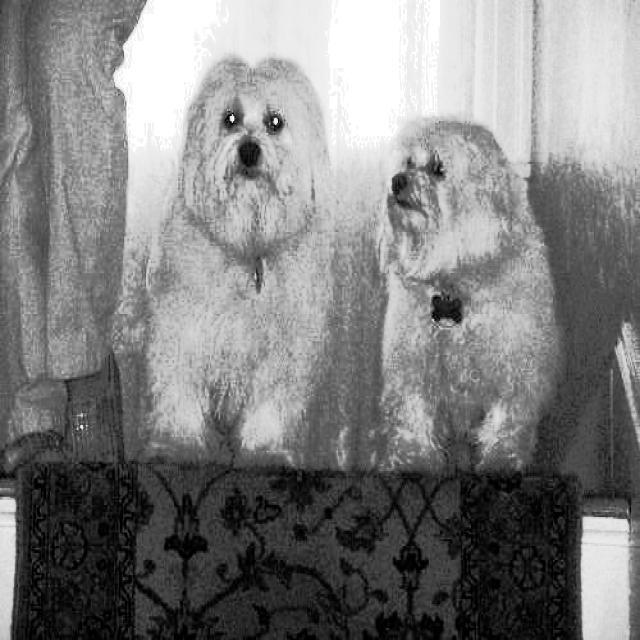Dog: (146, 36, 340, 492), (376, 104, 574, 505)
